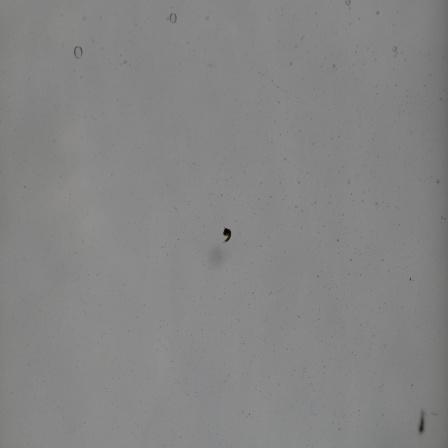Jentik-Nyamuk: (220, 224, 236, 248)
